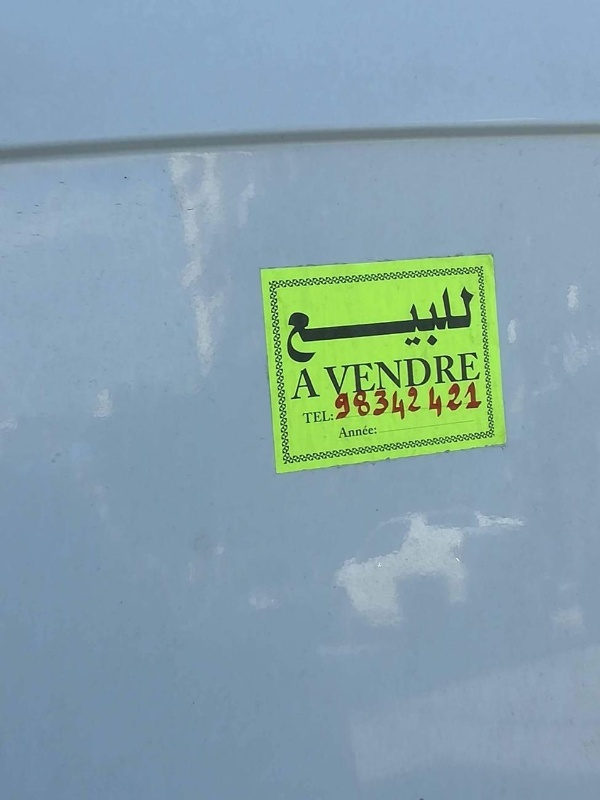text: (289, 282, 304, 366), (305, 282, 320, 366), (321, 282, 336, 366), (337, 282, 352, 366), (353, 282, 368, 366), (369, 282, 384, 366), (385, 282, 400, 366), (401, 282, 416, 366), (417, 282, 432, 366), (433, 282, 448, 366), (449, 282, 464, 366), (465, 282, 476, 366), (337, 350, 352, 396), (353, 350, 368, 396), (369, 350, 384, 396), (385, 350, 400, 396), (401, 350, 416, 396), (417, 350, 432, 396), (433, 350, 448, 396), (449, 350, 464, 396), (465, 350, 480, 396), (322, 350, 336, 396), (433, 380, 448, 420), (449, 380, 464, 420), (465, 380, 480, 420), (281, 282, 288, 366), (385, 385, 400, 424), (401, 385, 416, 424), (305, 368, 321, 401), (290, 368, 304, 401), (337, 391, 352, 421), (353, 391, 368, 421), (373, 385, 384, 424), (305, 409, 320, 426), (337, 423, 352, 439), (353, 423, 368, 439), (321, 409, 335, 426), (417, 385, 423, 424), (330, 391, 336, 421), (369, 423, 378, 439), (429, 380, 432, 420), (481, 350, 483, 396), (369, 391, 371, 421), (481, 380, 482, 420), (302, 409, 304, 426)
